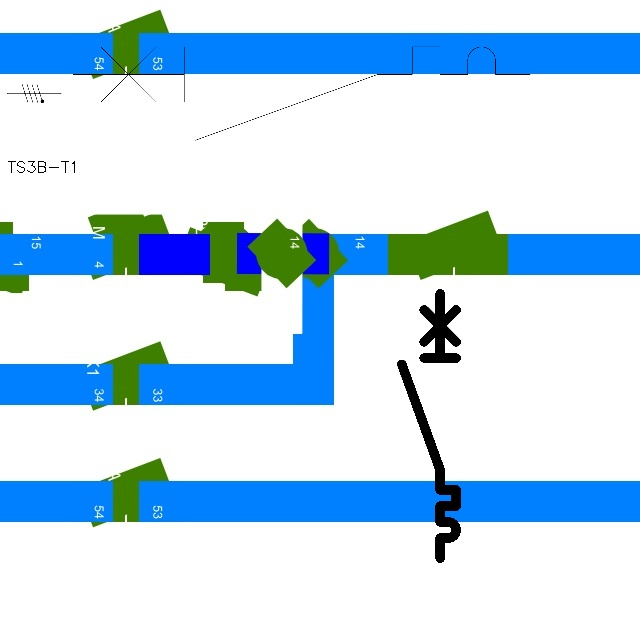interruptor_termomagnetico: (61, 35, 541, 152), (395, 287, 463, 565)
